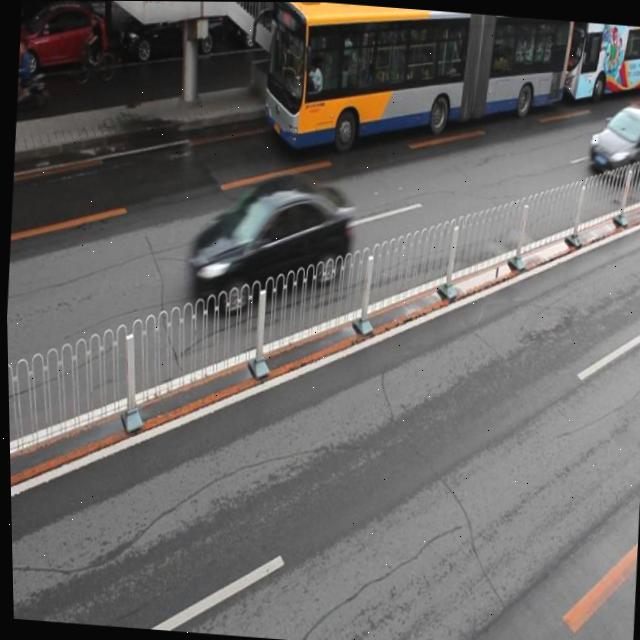car: (184, 165, 351, 316), (17, 0, 108, 74), (114, 1, 224, 56), (585, 99, 640, 182), (322, 2, 406, 53), (230, 1, 310, 51)
van: (260, 2, 573, 160), (534, 18, 640, 102)
